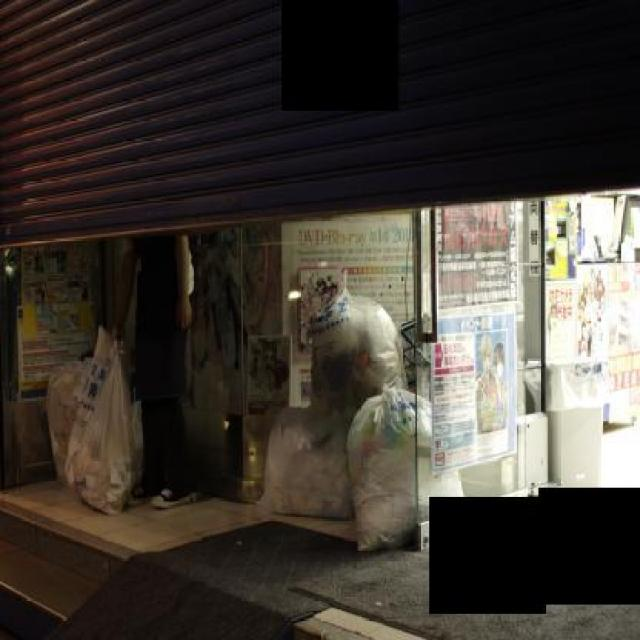plastic bag: (346, 385, 468, 552), (308, 270, 406, 412), (254, 383, 354, 520), (66, 334, 139, 515), (46, 351, 94, 474), (523, 354, 609, 411)
